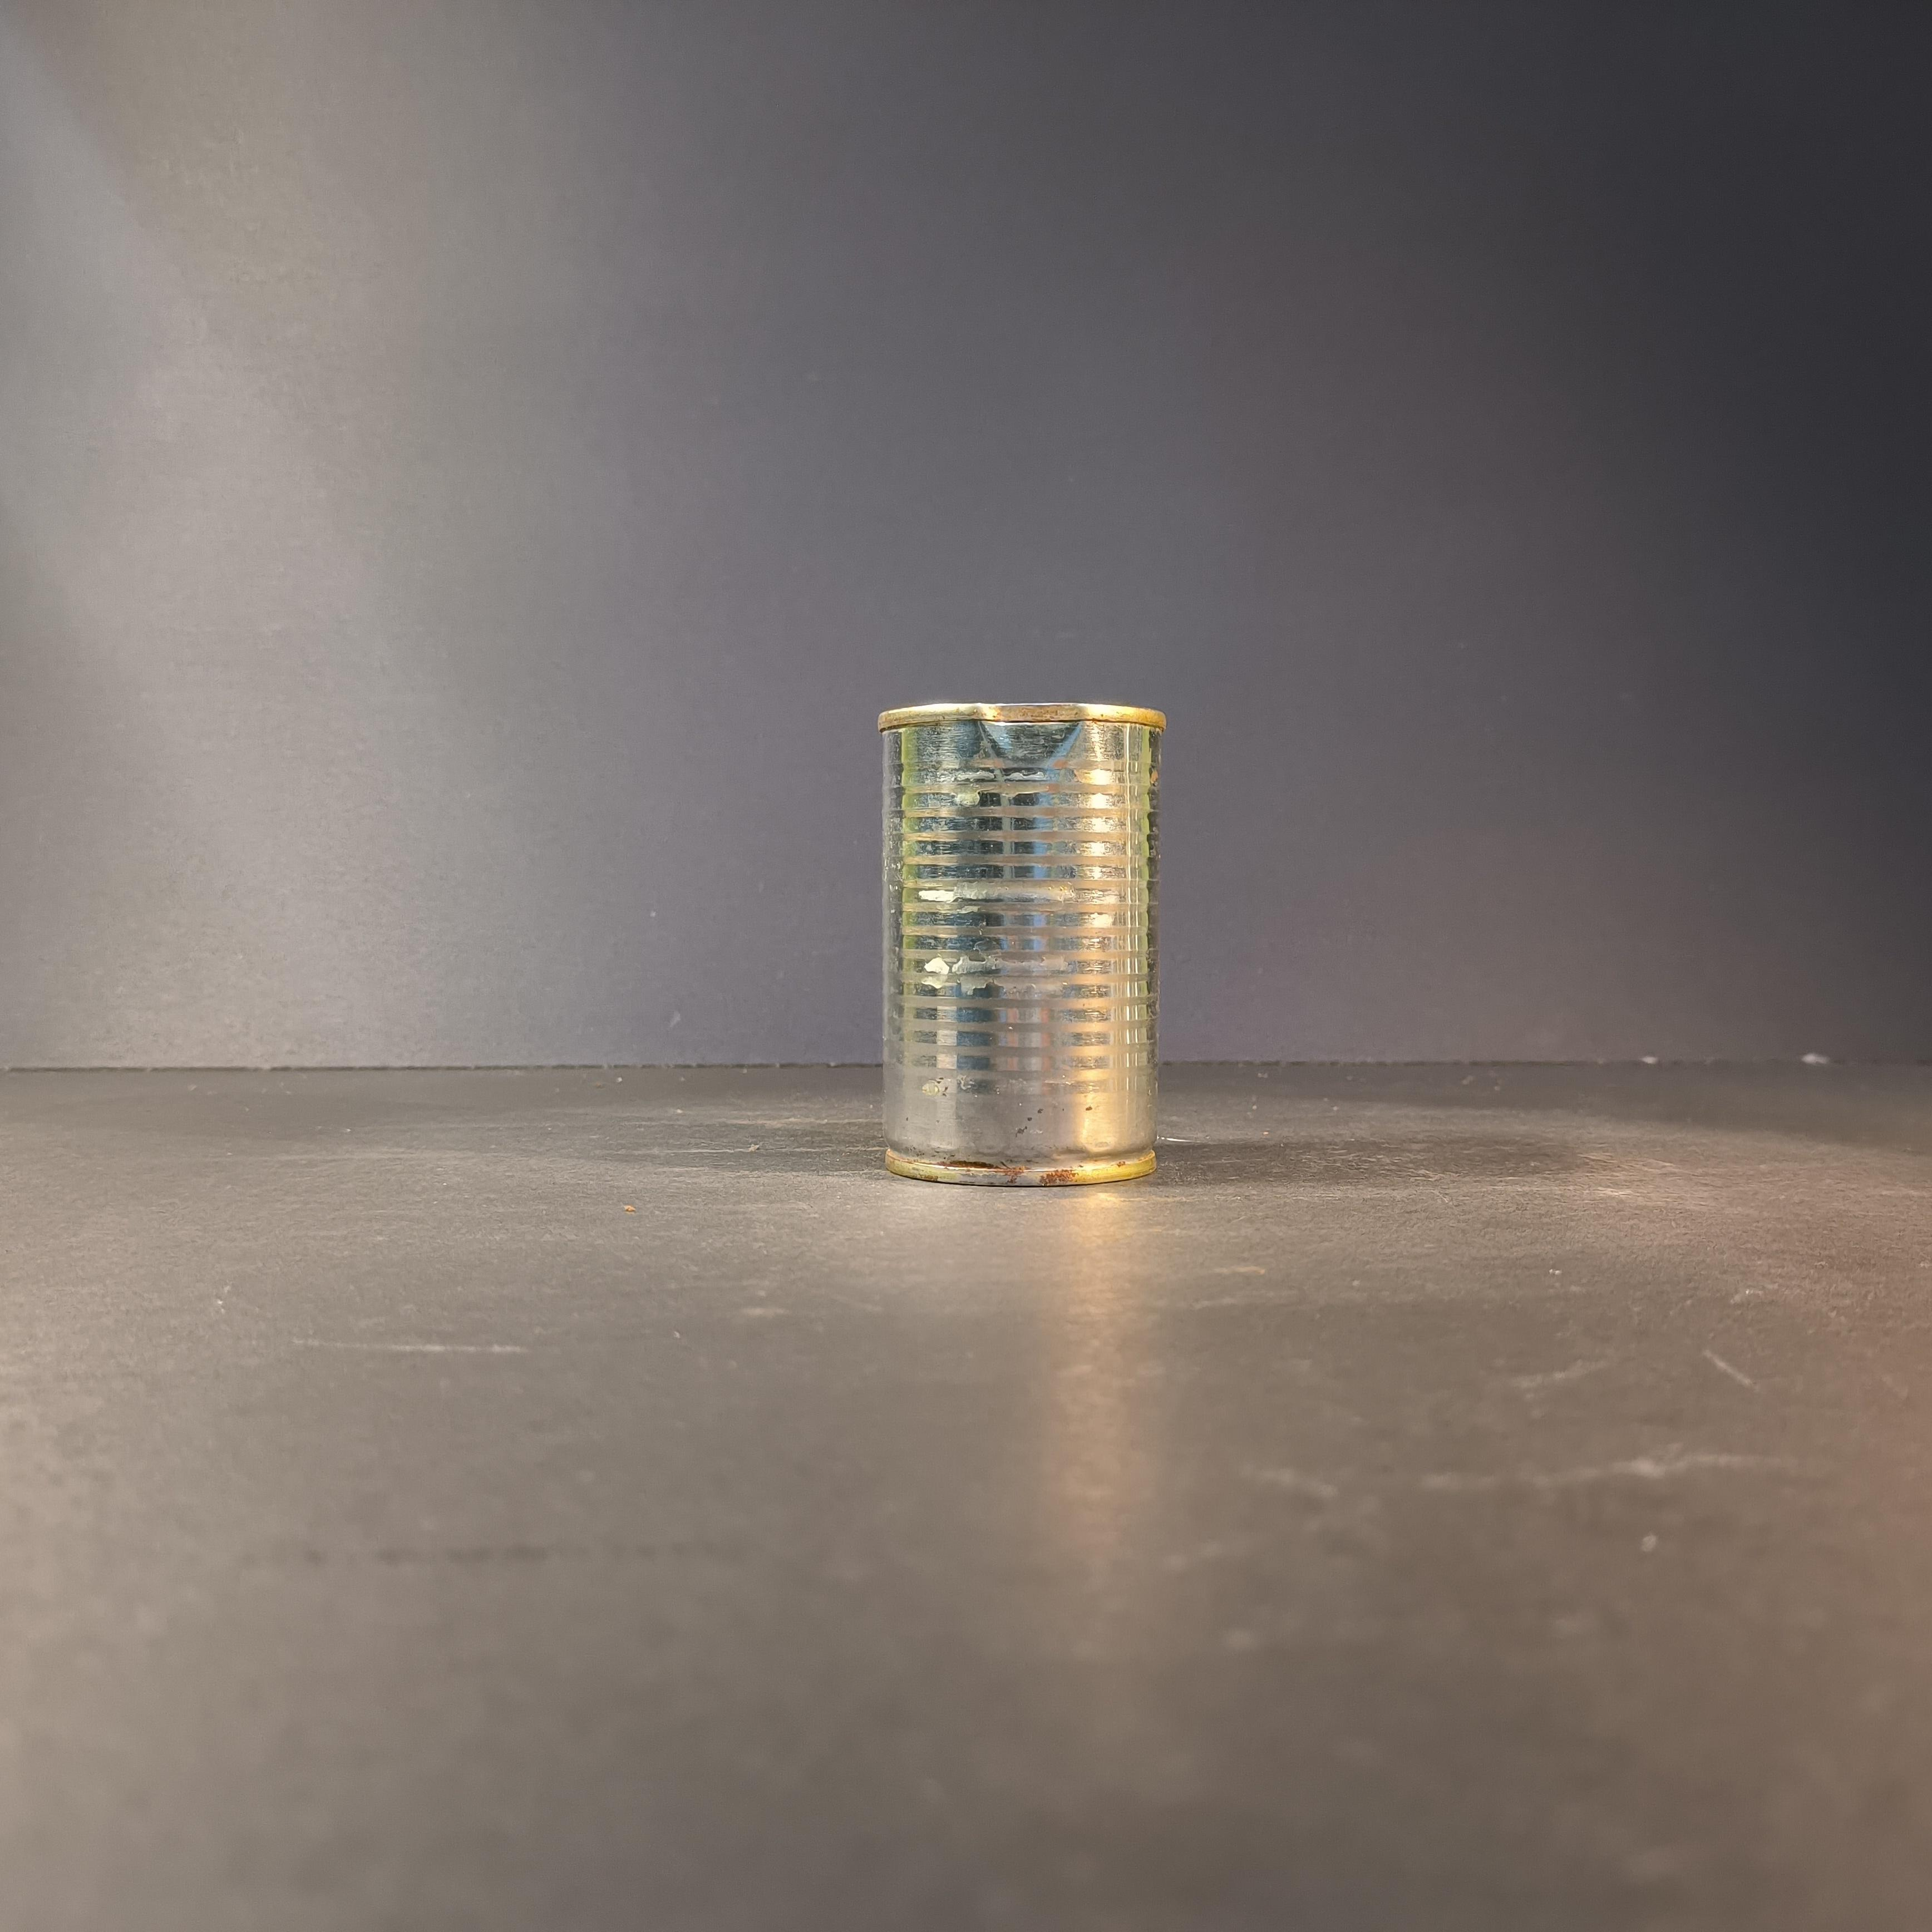Dented: (860, 662, 1185, 1191)
